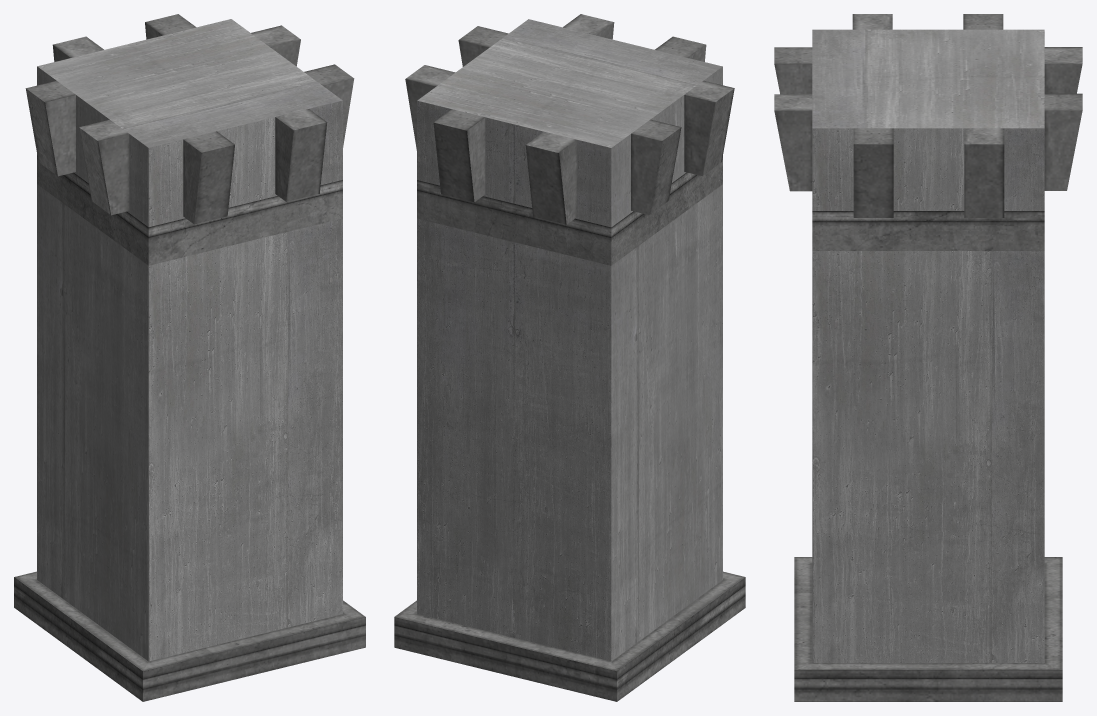
The model's file is HH_Hospital_Column_03.fbx.
The picture shows the model from 3 angles, left to right: view 1: azimuth 30°, elevation 25°; view 2: azimuth 150°, elevation 25°; view 3: azimuth 270°, elevation 25°; orthographic projection. The views are drawn at different scales.
Visible parts, largest first — view 1: HH_Hospital_Column_03_LOD0; view 2: HH_Hospital_Column_03_LOD0; view 3: HH_Hospital_Column_03_LOD0.
Boxes of the visible parts, <box> form: HH_Hospital_Column_03_LOD0: <box>14,14,365,701</box>; HH_Hospital_Column_03_LOD0: <box>394,14,745,701</box>; HH_Hospital_Column_03_LOD0: <box>774,14,1082,701</box>.
Size of what is drawn, in the model's own units: 173 by 350 by 173.
